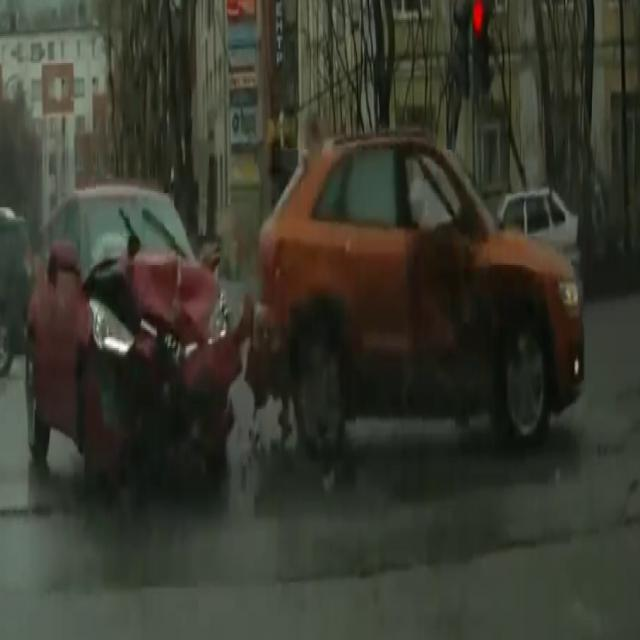accident: (49, 121, 560, 492)
